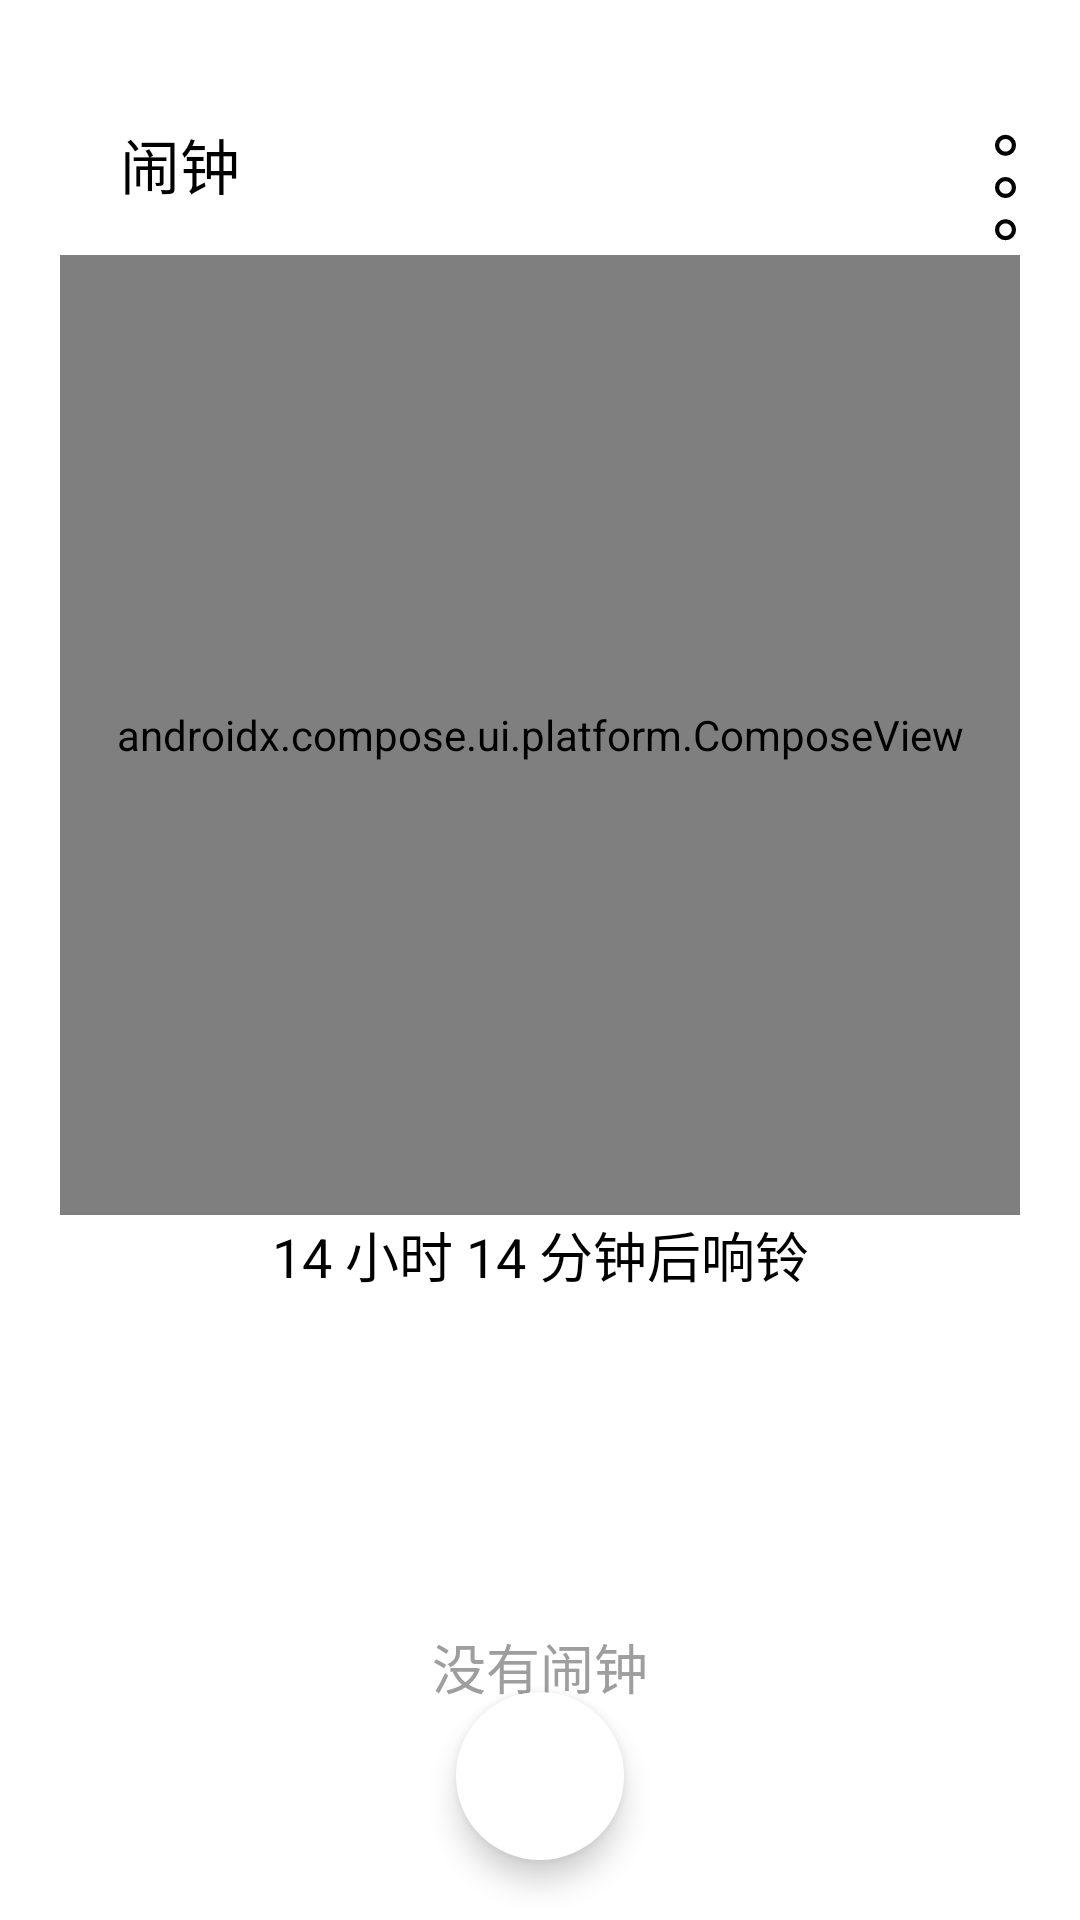

Icon click points for this 1080x1920 phone screenshot, format [x,y]:
更多: [1005,187]
